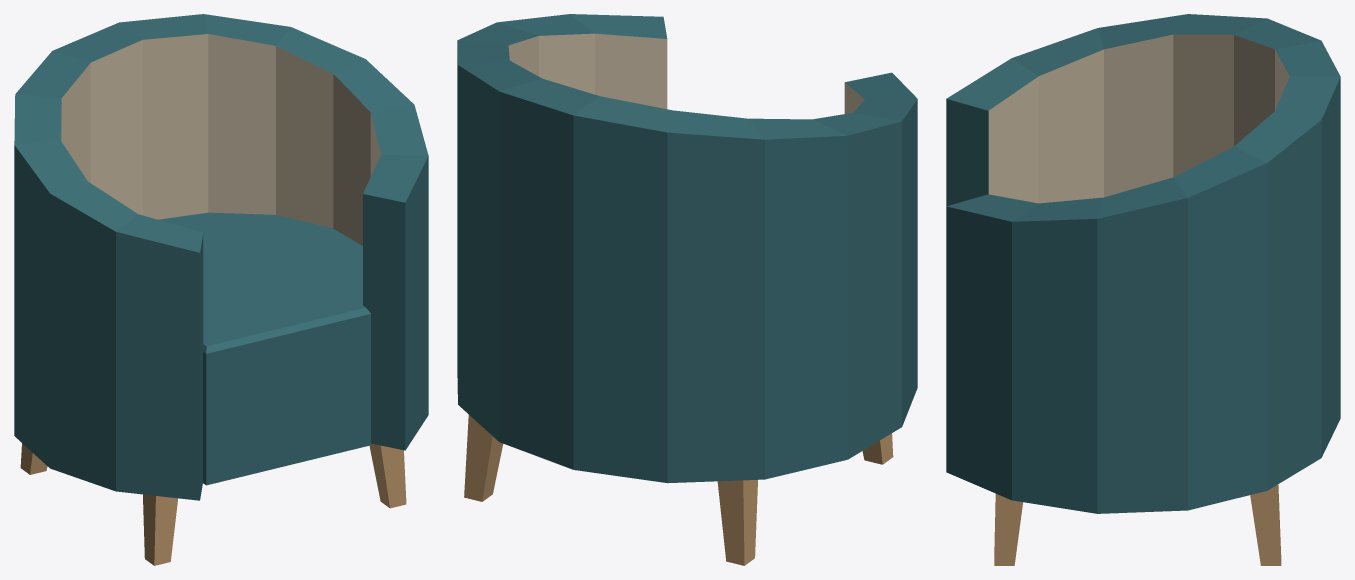
The model's file is FN_Chair_Tub.glb.
The picture shows the model from 3 angles, left to right: view 1: azimuth 30°, elevation 25°; view 2: azimuth 150°, elevation 25°; view 3: azimuth 270°, elevation 25°; orthographic projection. The views are drawn at different scales.
Visible parts, largest first — view 1: FN_Chair_Tub; view 2: FN_Chair_Tub; view 3: FN_Chair_Tub.
Boxes of the visible parts, x1,y1,x2,y2 form: FN_Chair_Tub: [14, 14, 428, 565]; FN_Chair_Tub: [457, 14, 917, 565]; FN_Chair_Tub: [946, 14, 1340, 565].
Size of the model in its own units: 0.7538 by 0.78 by 0.6585.
1 material, 1 textured.
